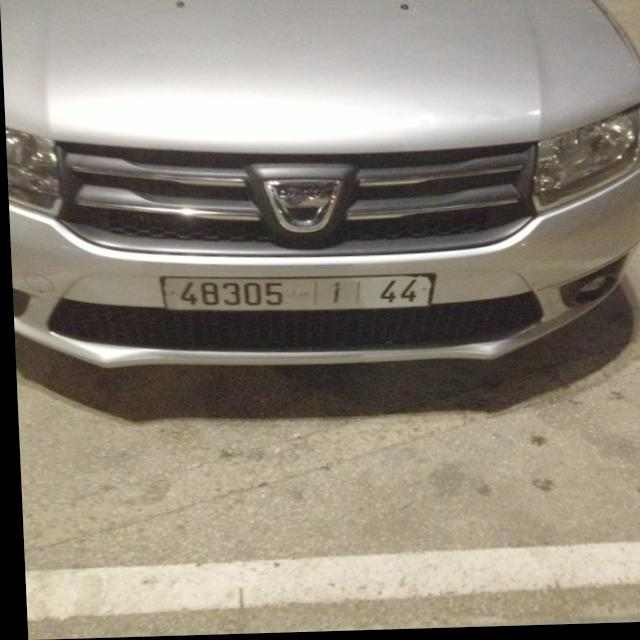License-Plate: (160, 277, 432, 312)
